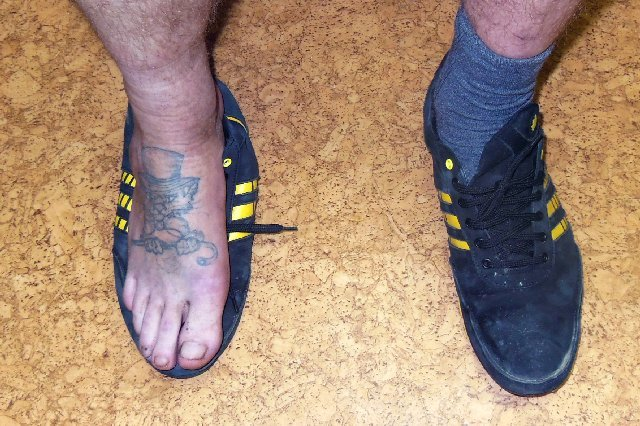tatu8_kot: (128, 140, 220, 275)
